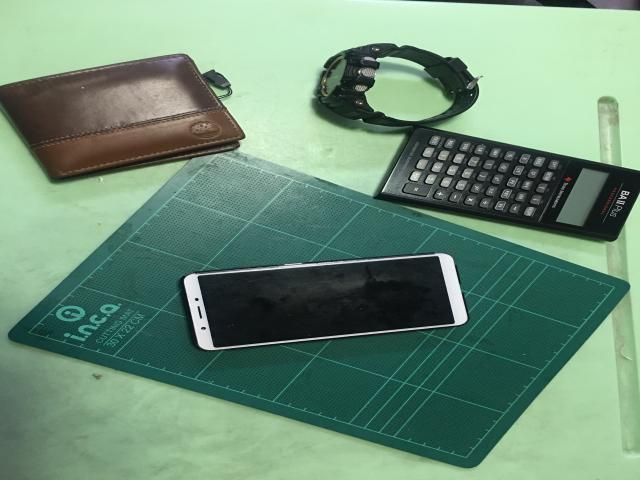Mobile phone: (182, 253, 468, 351)
Wallet: (0, 53, 245, 179)
Watch: (317, 43, 478, 127)
